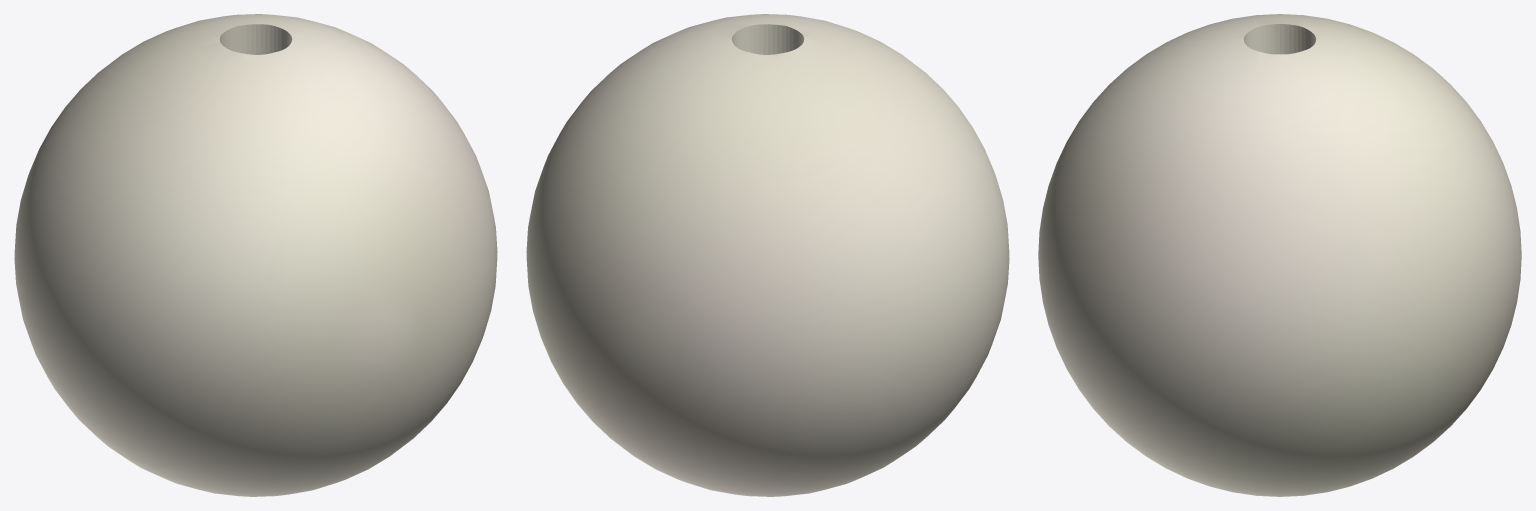
The picture shows the model from 3 angles, left to right: view 1: azimuth 30°, elevation 25°; view 2: azimuth 150°, elevation 25°; view 3: azimuth 270°, elevation 25°; orthographic projection.
Size of the model in its own units: 0.008 by 0.0079 by 0.008.
Materials: 1 (1 with a texture image).
